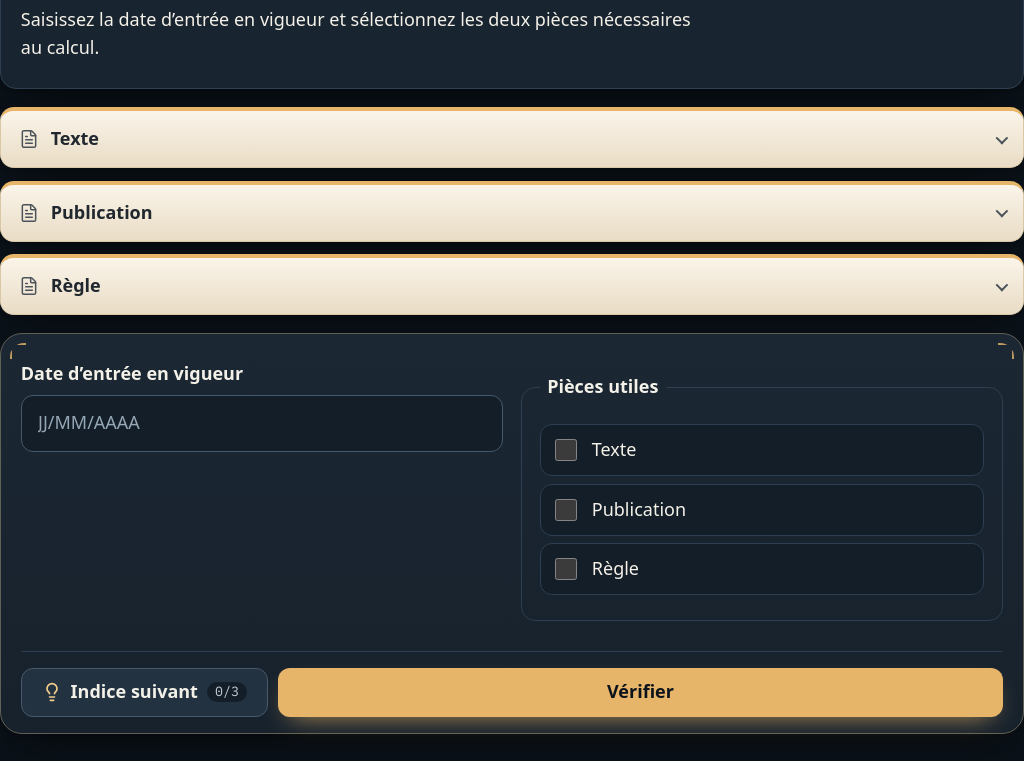
Test: place le focus sur le titre à l’ouverture, sans le voler pendant une saisie
This screenshot has width=1024, height=761.
(page scrolled)
Type "05/07/2006" into the field labelled "Date d’entrée en vigueur" at (262, 423), box [21,395,503,452]
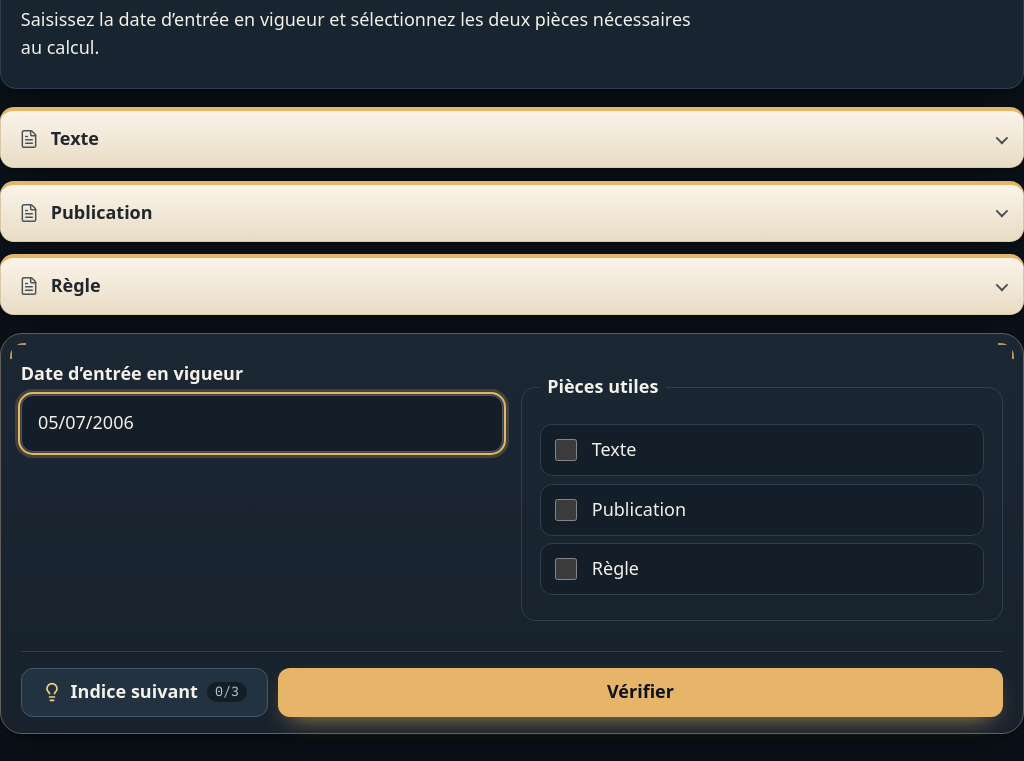
Click the button "Vérifier" at (641, 692), box [278,668,1003,717]
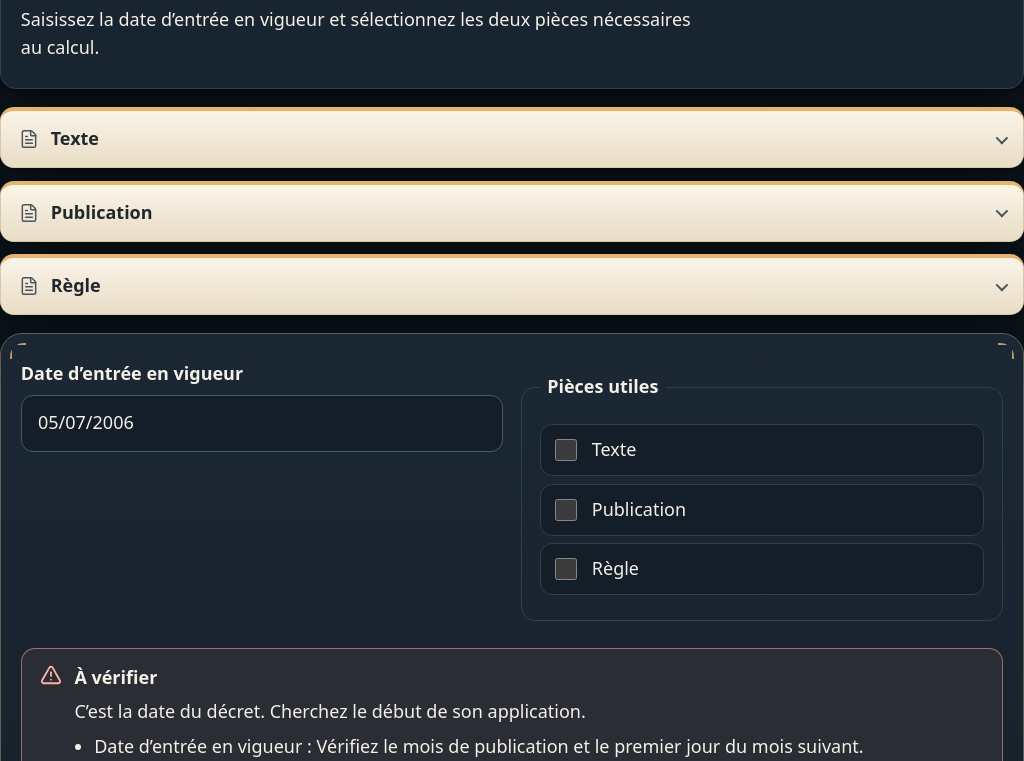
Result: the text "C’est la date du décret. Cherchez le début de son application." is shown at [74,699,586,723]
